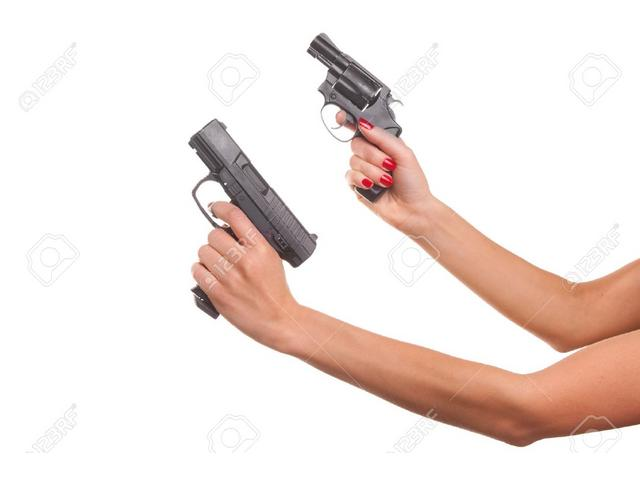pistol: (177, 120, 320, 316), (304, 22, 404, 201)
